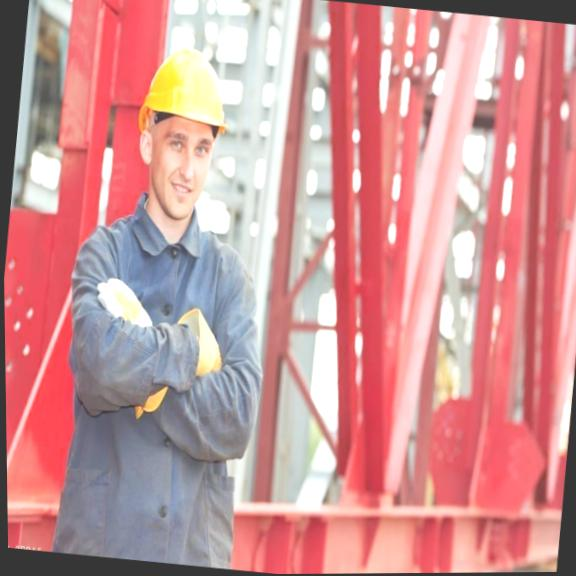no_safety_vest: (36, 188, 284, 572)
